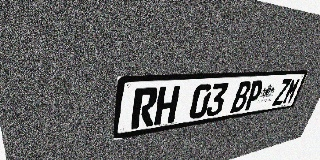0: (188, 84, 213, 120)
3: (205, 83, 229, 117)
B: (230, 81, 253, 113)
H: (154, 86, 181, 126)
M: (282, 78, 301, 104)
P: (243, 80, 265, 111)
R: (131, 87, 159, 129)
Z: (272, 78, 292, 106)
